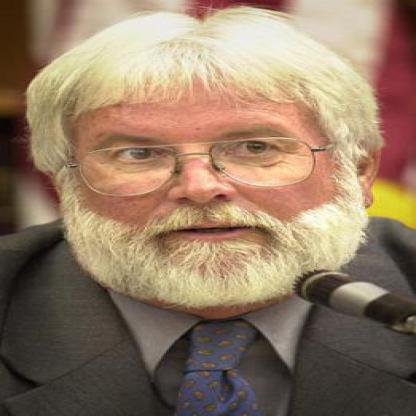face: (57, 27, 358, 295)
